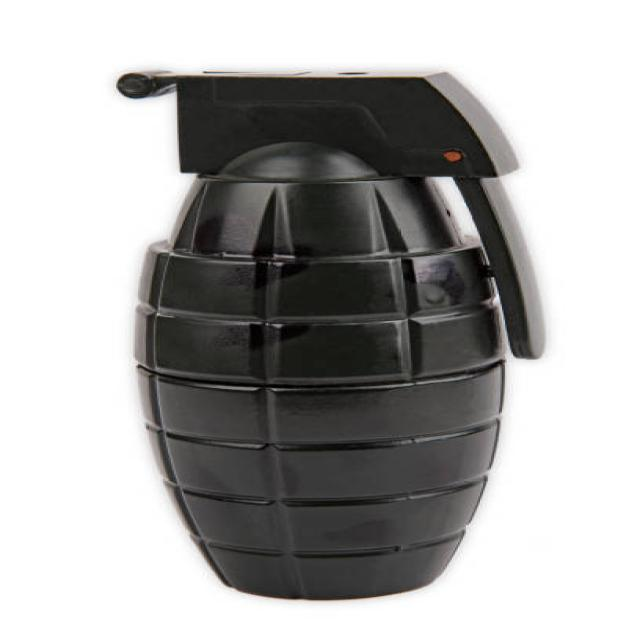grenade: (107, 56, 555, 610)
